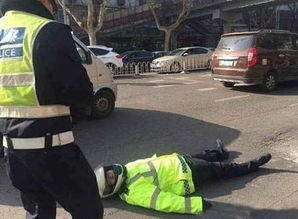falling: (96, 134, 273, 217)
